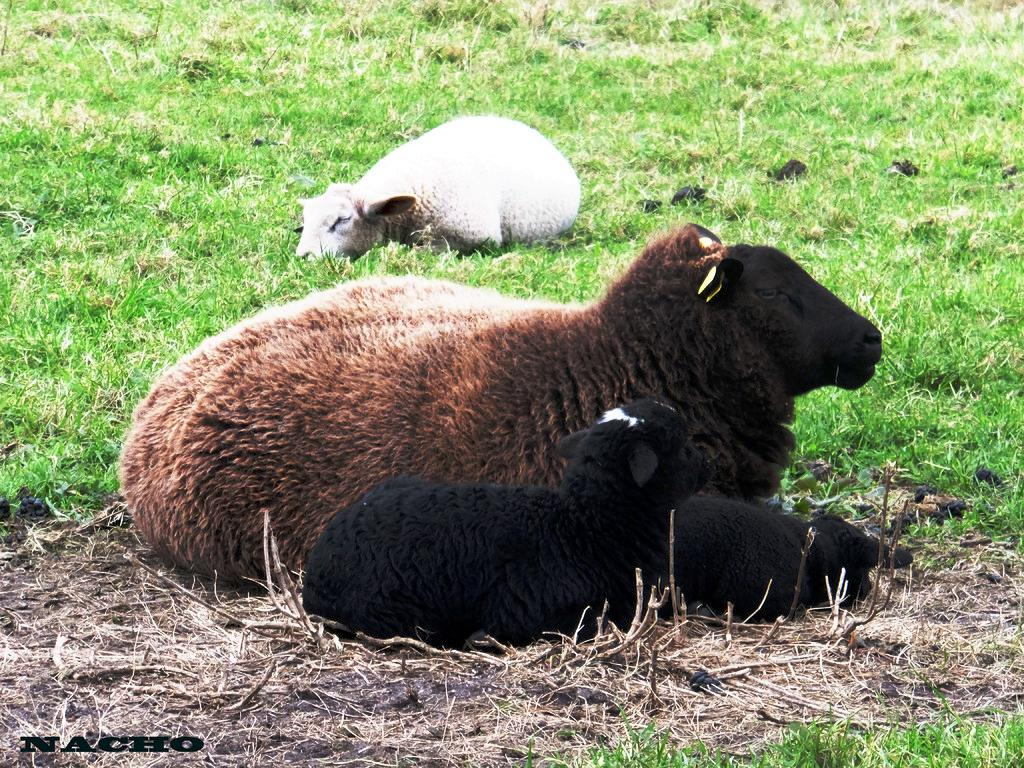Sheep: (116, 221, 882, 586), (305, 404, 715, 642), (290, 115, 582, 268), (674, 503, 913, 621)
